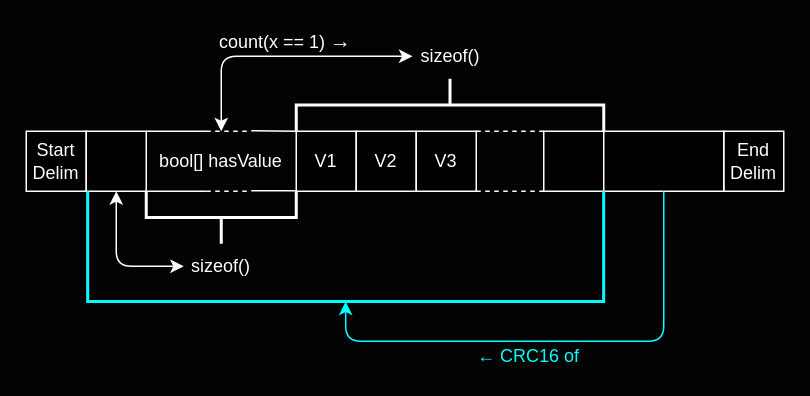
This 810x396 diagram has some shape labels left out. The centre of each missing label's shape, as x and y in pixels:
CRC 16: point 663,160
V n: point 573,160
Values Length: point 115,160
